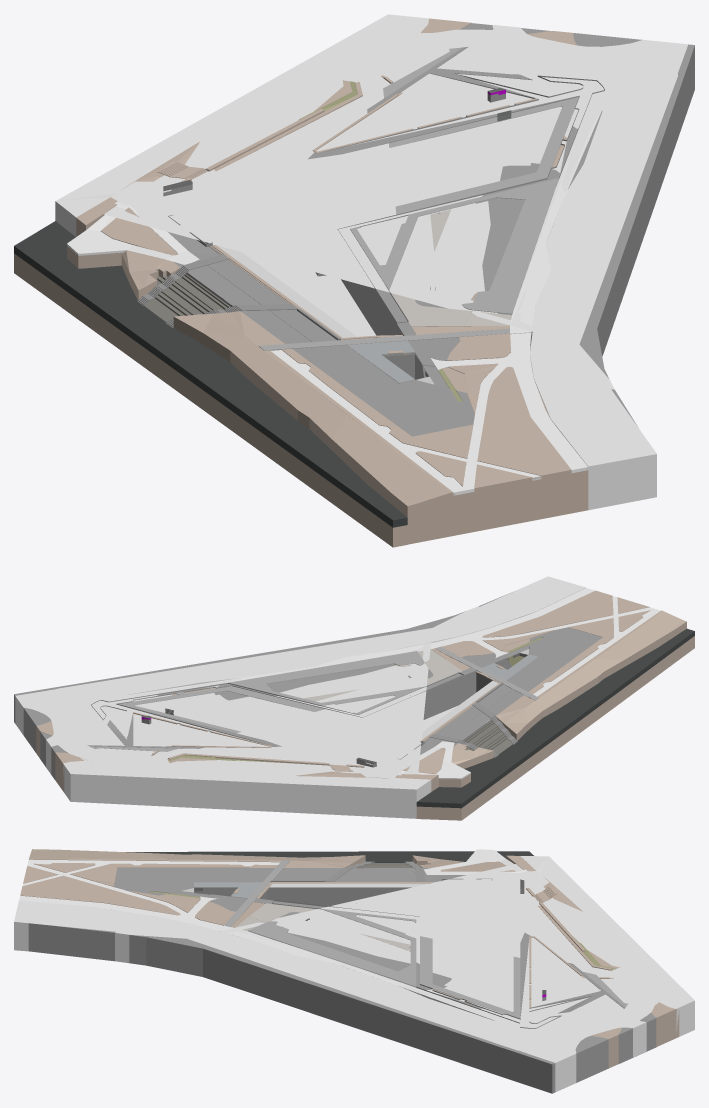
File: Ground.fbx
3 renders of one model, top to bottom at view 1: azimuth 30°, elevation 25°; view 2: azimuth 150°, elevation 25°; view 3: azimuth 270°, elevation 25°, orthographic. The views are drawn at different scales.
Parts seen in each view (by area): view 1: Ground; view 2: Ground; view 3: Ground.
Part boxes in pixels (bbox=[...]): Ground: bbox=[14, 14, 694, 547]; Ground: bbox=[14, 576, 694, 820]; Ground: bbox=[14, 849, 694, 1093].
Bounding box in the file's own units: 20200 × 1501 × 25857.
